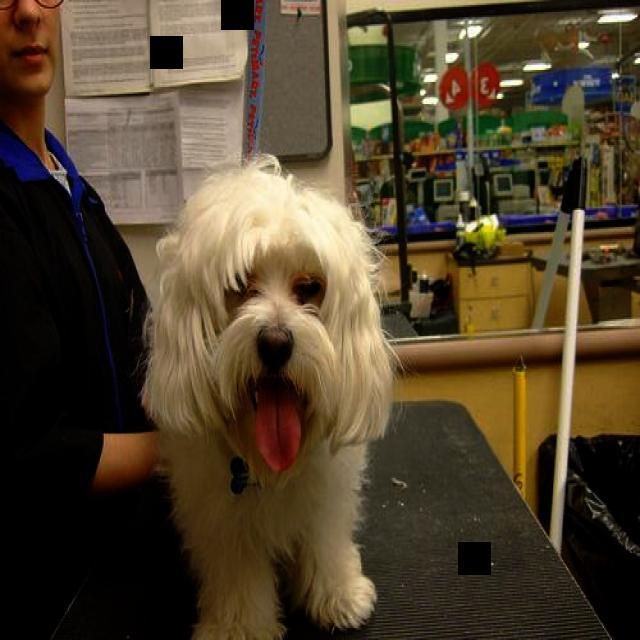adult_dog: (144, 161, 396, 640)
non-dog: (1, 1, 185, 640)
